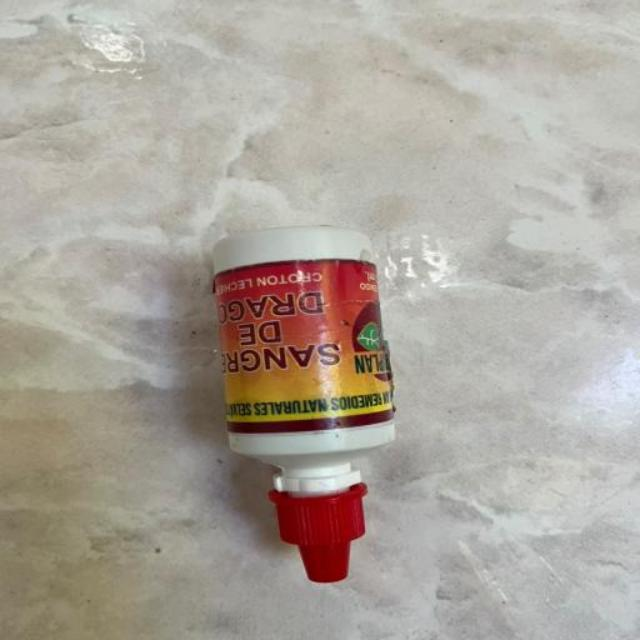HDPE: (167, 209, 464, 604)
